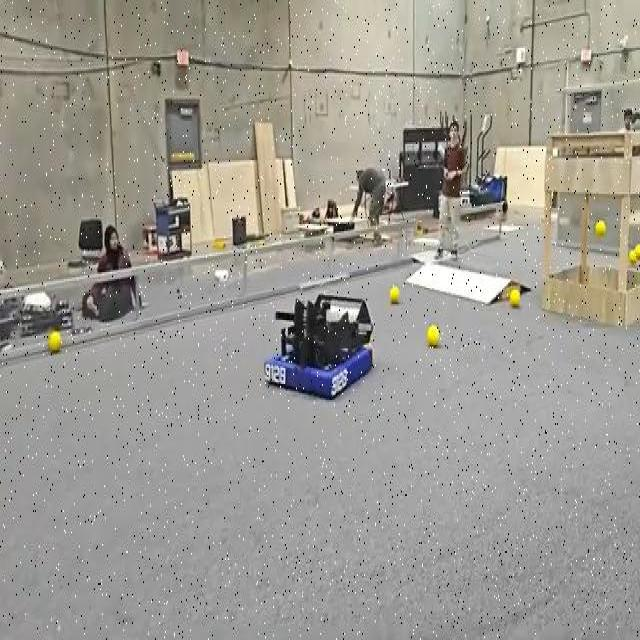Fuel: (48, 331, 62, 354), (426, 324, 439, 346), (509, 288, 520, 306), (594, 218, 606, 234), (595, 220, 606, 237), (389, 286, 399, 302), (628, 249, 637, 263)
